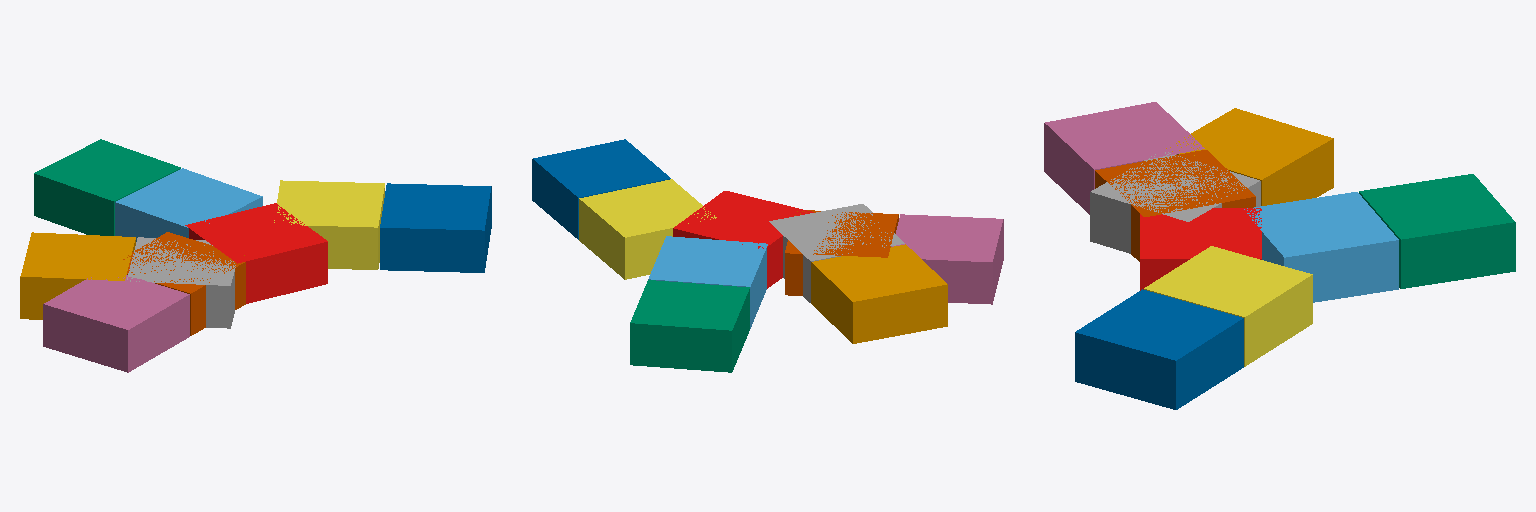
URDF robot description (Model_Models/Model_186.urdf5):
<?xml version='1.0' encoding='UTF-8'?>
<robot name="Model_Models/Model_186.urdf5">
  <link name="base_link">
    <inertial>
      <origin xyz="0.0 0.0 0.0" rpy="0.0 -0.0 0.0"/>
      <mass value="1.0"/>
      <inertia ixx="1.0" ixy="0.0" ixz="0.0" iyy="1.0" iyz="0.0" izz="1.0"/>
    </inertial>
    <visual>
      <geometry>
        <box size="0.67 0.67 0.3 "/>
      </geometry>
      <material name="red"/>
      <origin xyz="0.0 0.0 0.0" rpy="0.0 -0.0 0.0"/>
    </visual>
    <collision>
      <geometry>
        <box size="0.67 0.67 0.3 "/>
      </geometry>
      <origin xyz="0.0 0.0 0.0" rpy="0.0 0.0 0.0"/>
    </collision>
  </link>
  <link name="arm_0_arm1">
    <inertial>
      <origin xyz="0.0 0.34 0.0" rpy="0.0 0.0 0.0"/>
      <mass value="1.0"/>
      <inertia ixx="0.0" ixy="0.0" ixz="0.0" iyy="0.0" iyz="0.0" izz="0.0"/>
    </inertial>
    <visual>
      <geometry>
        <box size="0.67 0.67 0.3 "/>
      </geometry>
      <origin xyz="0.0 0.34 0.0" rpy="0.0 0.0 0.0"/>
    </visual>
    <collision>
      <geometry>
        <box size="0.67 0.67 0.3 "/>
      </geometry>
      <origin xyz="0.0 0.34 0.0" rpy="0.0 0.0 0.0"/>
    </collision>
  </link>
  <link name="arm_0_arm2">
    <inertial>
      <origin xyz="0.0 0.34 0.0" rpy="0.0 0.0 0.0"/>
      <mass value="1.0"/>
      <inertia ixx="0.0" ixy="0.0" ixz="0.0" iyy="0.0" iyz="0.0" izz="0.0"/>
    </inertial>
    <visual>
      <geometry>
        <box size="0.67 0.67 0.3 "/>
      </geometry>
      <origin xyz="0.0 0.34 0.0" rpy="0.0 0.0 0.0"/>
    </visual>
    <collision>
      <geometry>
        <box size="0.67 0.67 0.3 "/>
      </geometry>
      <origin xyz="0.0 0.34 0.0" rpy="0.0 0.0 0.0"/>
    </collision>
  </link>
  <link name="arm_2_arm1">
    <inertial>
      <origin xyz="0.0 0.34 0.0" rpy="0.0 0.0 0.0"/>
      <mass value="1.0"/>
      <inertia ixx="0.0" ixy="0.0" ixz="0.0" iyy="0.0" iyz="0.0" izz="0.0"/>
    </inertial>
    <visual>
      <geometry>
        <box size="0.67 0.67 0.3 "/>
      </geometry>
      <origin xyz="0.0 0.34 0.0" rpy="0.0 0.0 0.0"/>
    </visual>
    <collision>
      <geometry>
        <box size="0.67 0.67 0.3 "/>
      </geometry>
      <origin xyz="0.0 0.34 0.0" rpy="0.0 0.0 0.0"/>
    </collision>
  </link>
  <link name="arm_2_arm2">
    <inertial>
      <origin xyz="0.0 0.34 0.0" rpy="0.0 0.0 0.0"/>
      <mass value="1.0"/>
      <inertia ixx="0.0" ixy="0.0" ixz="0.0" iyy="0.0" iyz="0.0" izz="0.0"/>
    </inertial>
    <visual>
      <geometry>
        <box size="0.67 0.67 0.3 "/>
      </geometry>
      <origin xyz="0.0 0.34 0.0" rpy="0.0 0.0 0.0"/>
    </visual>
    <collision>
      <geometry>
        <box size="0.67 0.67 0.3 "/>
      </geometry>
      <origin xyz="0.0 0.34 0.0" rpy="0.0 0.0 0.0"/>
    </collision>
  </link>
  <link name="arm_3_arm1">
    <inertial>
      <origin xyz="0.0 0.34 0.0" rpy="0.0 0.0 0.0"/>
      <mass value="1.0"/>
      <inertia ixx="0.0" ixy="0.0" ixz="0.0" iyy="0.0" iyz="0.0" izz="0.0"/>
    </inertial>
    <visual>
      <geometry>
        <box size="0.67 0.67 0.3 "/>
      </geometry>
      <origin xyz="0.0 0.34 0.0" rpy="0.0 0.0 0.0"/>
    </visual>
    <collision>
      <geometry>
        <box size="0.67 0.67 0.3 "/>
      </geometry>
      <origin xyz="0.0 0.34 0.0" rpy="0.0 0.0 0.0"/>
    </collision>
  </link>
  <link name="arm_3_arm2">
    <inertial>
      <origin xyz="0.0 0.34 0.0" rpy="0.0 0.0 0.0"/>
      <mass value="1.0"/>
      <inertia ixx="0.0" ixy="0.0" ixz="0.0" iyy="0.0" iyz="0.0" izz="0.0"/>
    </inertial>
    <visual>
      <geometry>
        <box size="0.67 0.67 0.3 "/>
      </geometry>
      <origin xyz="0.0 0.34 0.0" rpy="0.0 0.0 0.0"/>
    </visual>
    <collision>
      <geometry>
        <box size="0.67 0.67 0.3 "/>
      </geometry>
      <origin xyz="0.0 0.34 0.0" rpy="0.0 0.0 0.0"/>
    </collision>
  </link>
  <link name="arm_Permutation_5_arm1">
    <inertial>
      <origin xyz="0.0 0.34 0.0" rpy="0.0 0.0 0.0"/>
      <mass value="1.0"/>
      <inertia ixx="0.0" ixy="0.0" ixz="0.0" iyy="0.0" iyz="0.0" izz="0.0"/>
    </inertial>
    <visual>
      <geometry>
        <box size="0.67 0.67 0.3 "/>
      </geometry>
      <origin xyz="0.0 0.34 0.0" rpy="0.0 0.0 0.0"/>
    </visual>
    <collision>
      <geometry>
        <box size="0.67 0.67 0.3 "/>
      </geometry>
      <origin xyz="0.0 0.34 0.0" rpy="0.0 0.0 0.0"/>
    </collision>
  </link>
  <link name="arm_Permutation_5_arm2">
    <inertial>
      <origin xyz="0.0 0.34 0.0" rpy="0.0 0.0 0.0"/>
      <mass value="1.0"/>
      <inertia ixx="0.0" ixy="0.0" ixz="0.0" iyy="0.0" iyz="0.0" izz="0.0"/>
    </inertial>
    <visual>
      <geometry>
        <box size="0.67 0.67 0.3 "/>
      </geometry>
      <origin xyz="0.0 0.34 0.0" rpy="0.0 0.0 0.0"/>
    </visual>
    <collision>
      <geometry>
        <box size="0.67 0.67 0.3 "/>
      </geometry>
      <origin xyz="0.0 0.34 0.0" rpy="0.0 0.0 0.0"/>
    </collision>
  </link>
  <joint name="arm_0_jointBase" type="fixed">
    <limit effort="1.57" velocity="1.57" lower="-1.57" upper="1.57"/>
    <parent link="base_link"/>
    <child link="arm_0_arm1"/>
    <axis xyz="1. 0. 0."/>
    <origin xyz="0.0 0.34 0.0" rpy="0.0 0.0 0.35"/>
  </joint>
  <joint name="arm_0_joint1" type="revolute">
    <limit effort="1.57" velocity="1.57" lower="-1.57" upper="1.57"/>
    <parent link="arm_0_arm1"/>
    <child link="arm_0_arm2"/>
    <axis xyz="1. 0. 0."/>
    <origin xyz="0.0 0.68 0.0" rpy="0.0 0.0 0.0"/>
  </joint>
  <joint name="arm_2_jointBase" type="fixed">
    <limit effort="1.57" velocity="1.57" lower="-1.57" upper="1.57"/>
    <parent link="base_link"/>
    <child link="arm_2_arm1"/>
    <axis xyz="1. 0. 0."/>
    <origin xyz="0.34 0.34 0.0" rpy="0.0 0.0 -2.16"/>
  </joint>
  <joint name="arm_2_joint1" type="revolute">
    <limit effort="1.57" velocity="1.57" lower="-1.57" upper="1.57"/>
    <parent link="arm_2_arm1"/>
    <child link="arm_2_arm2"/>
    <axis xyz="1. 0. 0."/>
    <origin xyz="0.0 0.68 0.0" rpy="0.0 0.0 0.0"/>
  </joint>
  <joint name="arm_3_jointBase" type="fixed">
    <limit effort="1.57" velocity="1.57" lower="-1.57" upper="1.57"/>
    <parent link="base_link"/>
    <child link="arm_3_arm1"/>
    <axis xyz="1. 0. 0."/>
    <origin xyz="-0.34 0.0 0.0" rpy="0.0 0.0 1.99"/>
  </joint>
  <joint name="arm_3_joint1" type="revolute">
    <limit effort="1.57" velocity="1.57" lower="-1.57" upper="1.57"/>
    <parent link="arm_3_arm1"/>
    <child link="arm_3_arm2"/>
    <axis xyz="1. 0. 0."/>
    <origin xyz="0.0 0.68 0.0" rpy="0.0 0.0 0.0"/>
  </joint>
  <joint name="arm_Permutation_5_jointBase" type="fixed">
    <limit effort="1.57" velocity="1.57" lower="-1.57" upper="1.57"/>
    <parent link="base_link"/>
    <child link="arm_Permutation_5_arm1"/>
    <axis xyz="1. 0. 0."/>
    <origin xyz="-0.34 -0.34 0.0" rpy="0.0 0.0 0.94"/>
  </joint>
  <joint name="arm_Permutation_5_joint1" type="revolute">
    <limit effort="1.57" velocity="1.57" lower="-1.57" upper="1.57"/>
    <parent link="arm_Permutation_5_arm1"/>
    <child link="arm_Permutation_5_arm2"/>
    <axis xyz="1. 0. 0."/>
    <origin xyz="0.0 0.68 0.0" rpy="0.0 0.0 0.0"/>
  </joint>
  <material name="red">
    <color rgba="0.969 0.129 0.122 1.   "/>
  </material>
</robot>

--- Render facts (derived) ---
Views: 3 orthographic renders of the robot side by side, from view 1: azimuth 30°, elevation 25°; view 2: azimuth 150°, elevation 25°; view 3: azimuth 270°, elevation 25°.
Robot: Model_Models/Model_186.urdf5 — 9 links, 8 joints (4 revolute, 4 fixed); root link base_link; default pose: every joint at zero.
Links seen in each view (by area): view 1: arm_3_arm2, arm_2_arm2, base_link, arm_0_arm2, arm_2_arm1, arm_0_arm1, arm_Permutation_5_arm2, arm_Permutation_5_arm1, arm_3_arm1; view 2: arm_Permutation_5_arm2, arm_0_arm2, arm_2_arm1, arm_3_arm2, arm_2_arm2, arm_0_arm1, base_link, arm_Permutation_5_arm1, arm_3_arm1; view 3: arm_2_arm2, arm_0_arm2, arm_0_arm1, arm_2_arm1, arm_3_arm2, arm_Permutation_5_arm2, base_link, arm_3_arm1, arm_Permutation_5_arm1.
Boxes of the visible links, <box> form: arm_3_arm2: <box>43,275,189,372</box>; arm_2_arm2: <box>380,183,491,272</box>; base_link: <box>185,203,327,303</box>; arm_0_arm2: <box>34,139,180,235</box>; arm_2_arm1: <box>274,180,384,269</box>; arm_0_arm1: <box>115,168,262,241</box>; arm_Permutation_5_arm2: <box>20,232,135,319</box>; arm_Permutation_5_arm1: <box>127,237,235,328</box>; arm_3_arm1: <box>123,232,245,335</box>; arm_Permutation_5_arm2: <box>811,244,947,343</box>; arm_0_arm2: <box>630,280,749,372</box>; arm_2_arm1: <box>579,179,716,279</box>; arm_3_arm2: <box>892,214,1003,304</box>; arm_2_arm2: <box>532,139,670,239</box>; arm_0_arm1: <box>648,236,767,328</box>; base_link: <box>673,191,813,288</box>; arm_Permutation_5_arm1: <box>769,204,904,302</box>; arm_3_arm1: <box>785,210,898,295</box>; arm_2_arm2: <box>1075,289,1243,409</box>; arm_0_arm2: <box>1359,174,1515,288</box>; arm_0_arm1: <box>1244,192,1398,302</box>; arm_2_arm1: <box>1144,246,1312,366</box>; arm_3_arm2: <box>1044,102,1204,214</box>; arm_Permutation_5_arm2: <box>1166,108,1333,205</box>; base_link: <box>1140,208,1261,290</box>; arm_3_arm1: <box>1095,150,1255,261</box>; arm_Permutation_5_arm1: <box>1090,152,1260,253</box>.
Bounding box of the posed robot: 3.37 × 2.59 × 0.3 m (x, y, z).
Geometry: primitives only (box / cylinder / sphere), no mesh files.